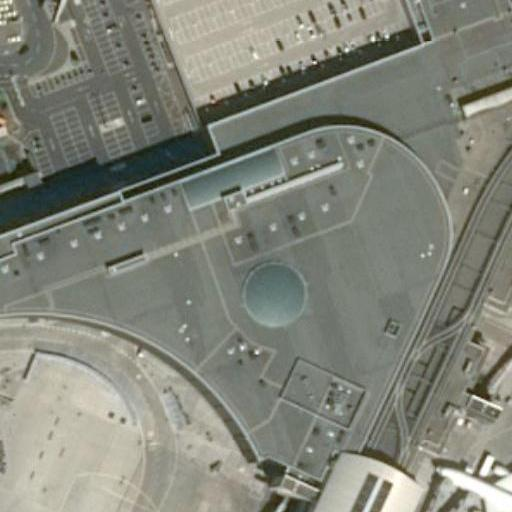Aircraft: (425, 428, 512, 512), (506, 309, 512, 387)
